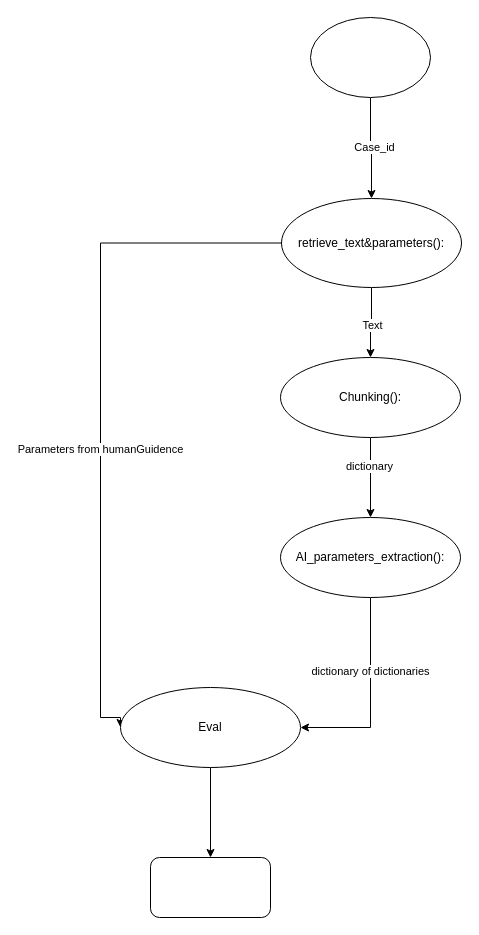
Some shapes in this 479 by 935 pixel diagram are drawn without their labels. The shapes that lost their labels are listed below. From the top down, each one's centre as x and y in pixels, then its label:
(x=370, y=57): start
(x=210, y=887): Accuracy
